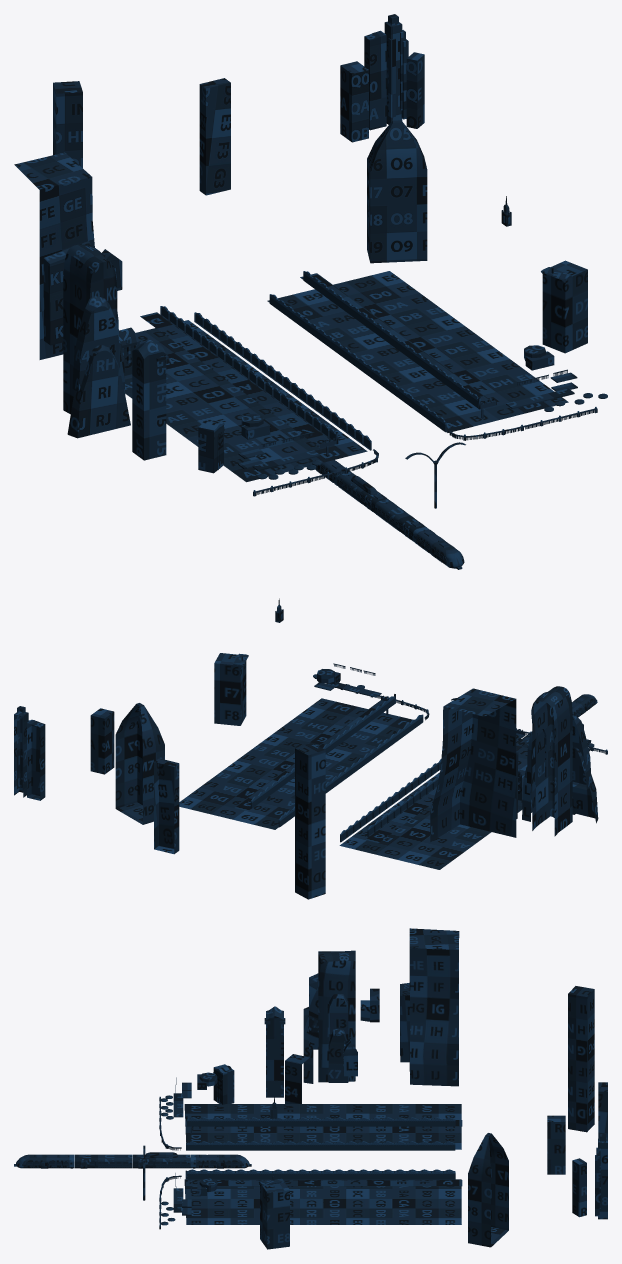
Rendered from 1K_Id_Map.fbx.
3 renders of one model, top to bottom at view 1: azimuth 30°, elevation 25°; view 2: azimuth 150°, elevation 25°; view 3: azimuth 270°, elevation 25°, orthographic. The views are drawn at different scales.
Visible parts, largest first — view 1: pPlane14, pPlane2, Building4, Building3, Building2, Builing__, pCube109, pCube110, Building38, pCube33, pCube106, Building18 (+11 smaller); view 2: Building3, pPlane14, Building2, Building18, pPlane2, Building4, Building38, pCube110, Building23, Building26, pCube106, pCube33 (+6 smaller); view 3: pPlane14, pPlane2, Building3, Building4, Building18, Building2, pCube110, pCube360, Builing__, Building23, pCube108, Building13 (+14 smaller).
Boxes of the visible parts, x1=… form: pPlane14: x1=267, y1=271, x2=568, y2=432; pPlane2: x1=124, y1=320, x2=367, y2=482; Building4: x1=367, y1=120, x2=427, y2=263; Building3: x1=14, y1=152, x2=94, y2=359; Building2: x1=63, y1=244, x2=117, y2=414; Builing__: x1=132, y1=340, x2=166, y2=460; pCube109: x1=67, y1=345, x2=130, y2=438; pCube110: x1=542, y1=260, x2=587, y2=353; Building38: x1=199, y1=78, x2=230, y2=195; pCube33: x1=140, y1=312, x2=336, y2=447; pCube106: x1=72, y1=296, x2=124, y2=392; Building18: x1=53, y1=81, x2=82, y2=167; Building3: x1=430, y1=688, x2=516, y2=842; pPlane14: x1=179, y1=698, x2=412, y2=829; Building2: x1=531, y1=686, x2=572, y2=836; Building18: x1=295, y1=742, x2=325, y2=899; pPlane2: x1=339, y1=745, x2=527, y2=869; Building4: x1=115, y1=703, x2=164, y2=824; Building38: x1=154, y1=758, x2=179, y2=854; pCube110: x1=214, y1=653, x2=246, y2=725; Building23: x1=90, y1=708, x2=114, y2=774; Building26: x1=27, y1=719, x2=45, y2=800; pCube106: x1=550, y1=715, x2=591, y2=789; pCube33: x1=365, y1=730, x2=525, y2=842; pPlane14: x1=184, y1=1179, x2=461, y2=1224; pPlane2: x1=184, y1=1104, x2=461, y2=1149; Building3: x1=409, y1=928, x2=459, y2=1086; Building4: x1=468, y1=1133, x2=508, y2=1247; Building18: x1=568, y1=986, x2=594, y2=1132; Building2: x1=318, y1=950, x2=355, y2=1082; pCube110: x1=260, y1=1182, x2=289, y2=1249; pCube360: x1=186, y1=1180, x2=462, y2=1186; Builing__: x1=266, y1=1006, x2=283, y2=1097; Building23: x1=547, y1=1115, x2=565, y2=1174; pCube108: x1=328, y1=1029, x2=348, y2=1082; Building13: x1=285, y1=1054, x2=309, y2=1103.
Size of the model in its own units: 48.73 by 21.56 by 61.62.
1 material, 1 textured.
